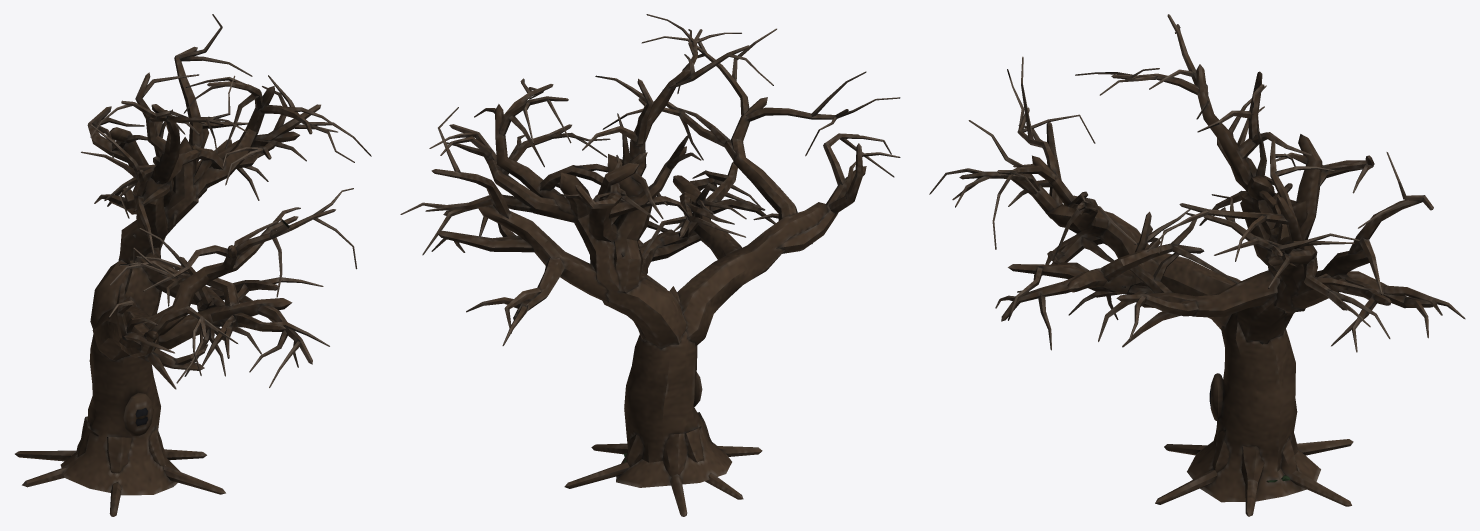
Rendered from GnarledOak.fbx.
The picture shows the model from 3 angles, left to right: view 1: azimuth 30°, elevation 25°; view 2: azimuth 150°, elevation 25°; view 3: azimuth 270°, elevation 25°; orthographic projection. The views are drawn at different scales.
Parts seen in each view (by area): view 1: GnarledOak; view 2: GnarledOak; view 3: GnarledOak.
Part boxes in pixels (left/top/right/bottom): GnarledOak: left=15, top=14, right=371, bottom=516; GnarledOak: left=400, top=14, right=900, bottom=516; GnarledOak: left=929, top=14, right=1465, bottom=516.
Size of the model in its own units: 978 by 1123 by 1227.
